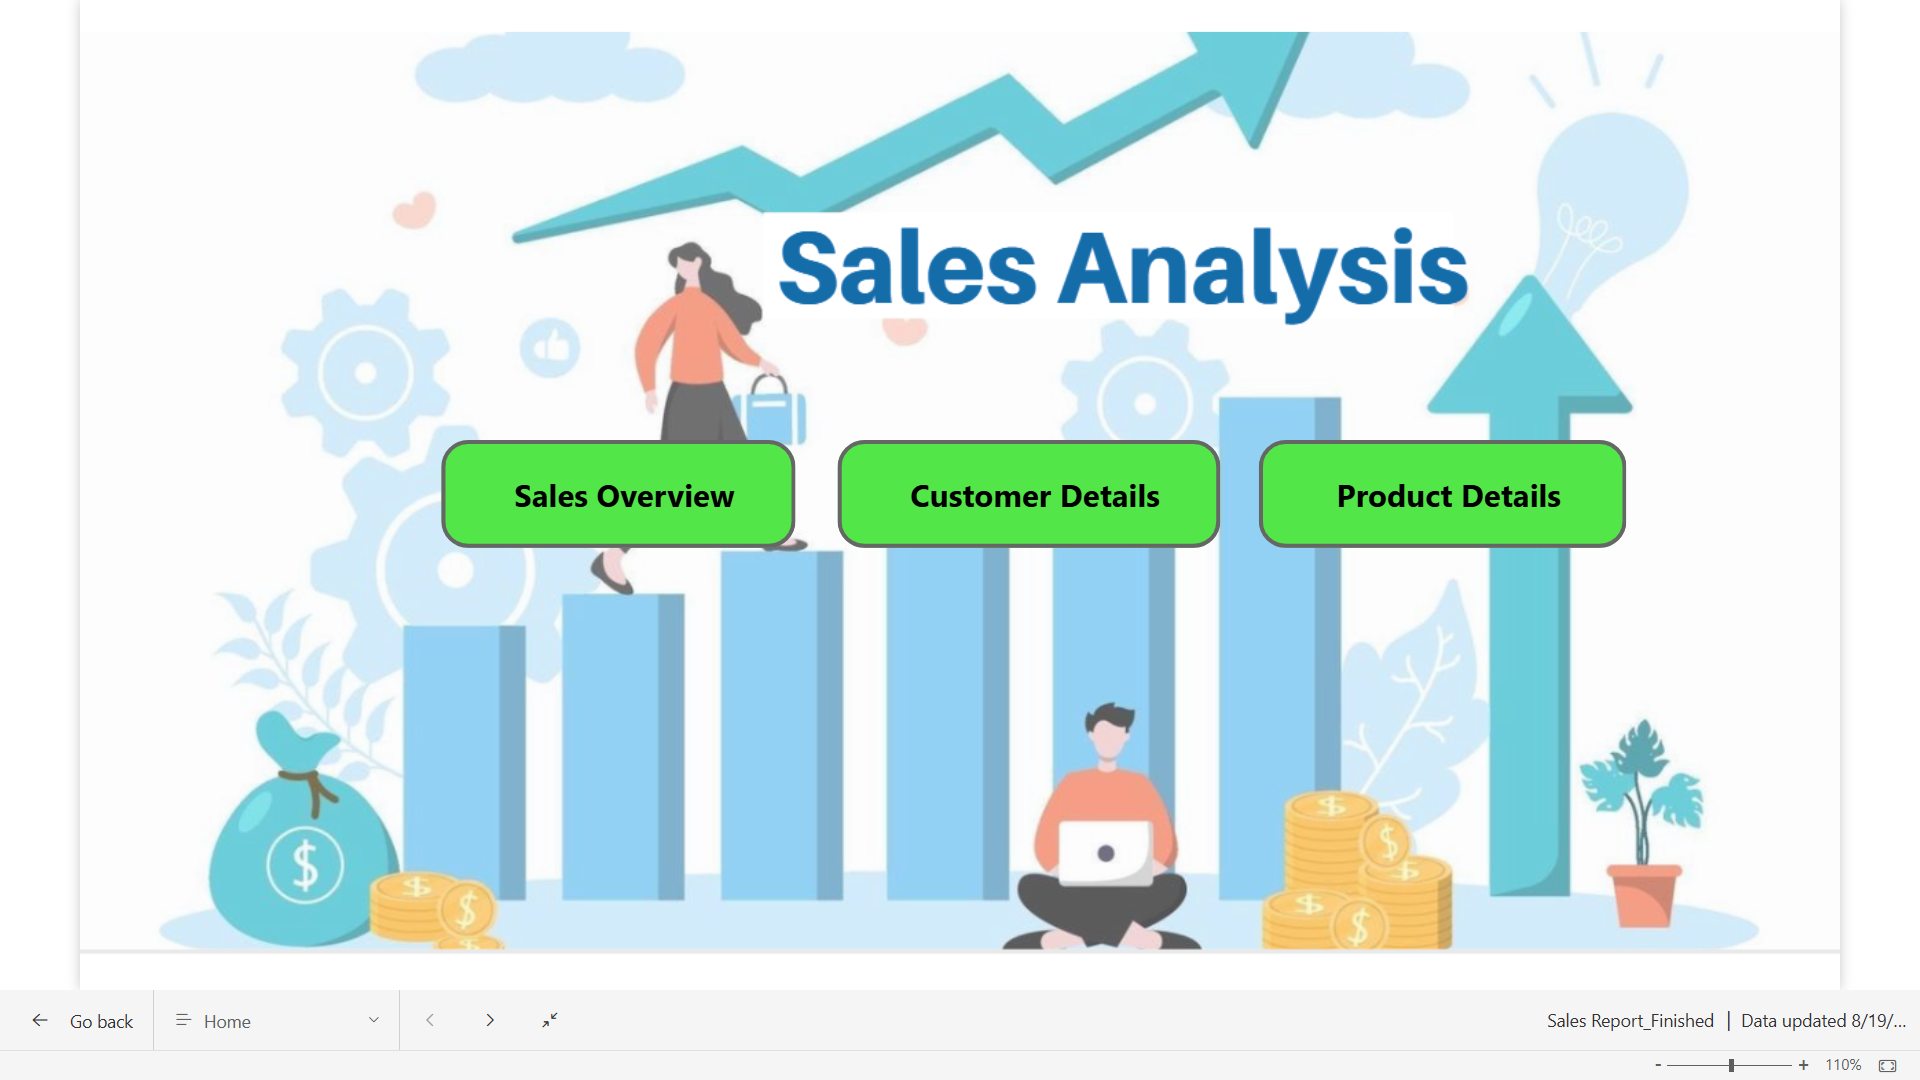

Layout of this report page (visuals, bound fields, positions):
{"tool":"powerbi","page":{"name":"Home","canvas":[1280,720],"ordinal":0},"visuals":[{"type":"actionButton","box":[262.6,320.2,257.7,78.5],"z":0},{"type":"actionButton","box":[550.9,320.2,278.5,78.5],"z":1000},{"type":"actionButton","box":[857.7,320.2,267.5,78.5],"z":2000}]}

Visuals, with their boxes on the page's 1280x720 design canvas (x1, y1, x2, y2). These are canvas units, not pixel positions in the 1920x1080 screenshot, which may show the page scaled, cropped or inside an application window:
actionButton: <bbox>263, 320, 520, 399</bbox>
actionButton: <bbox>551, 320, 829, 399</bbox>
actionButton: <bbox>858, 320, 1125, 399</bbox>
